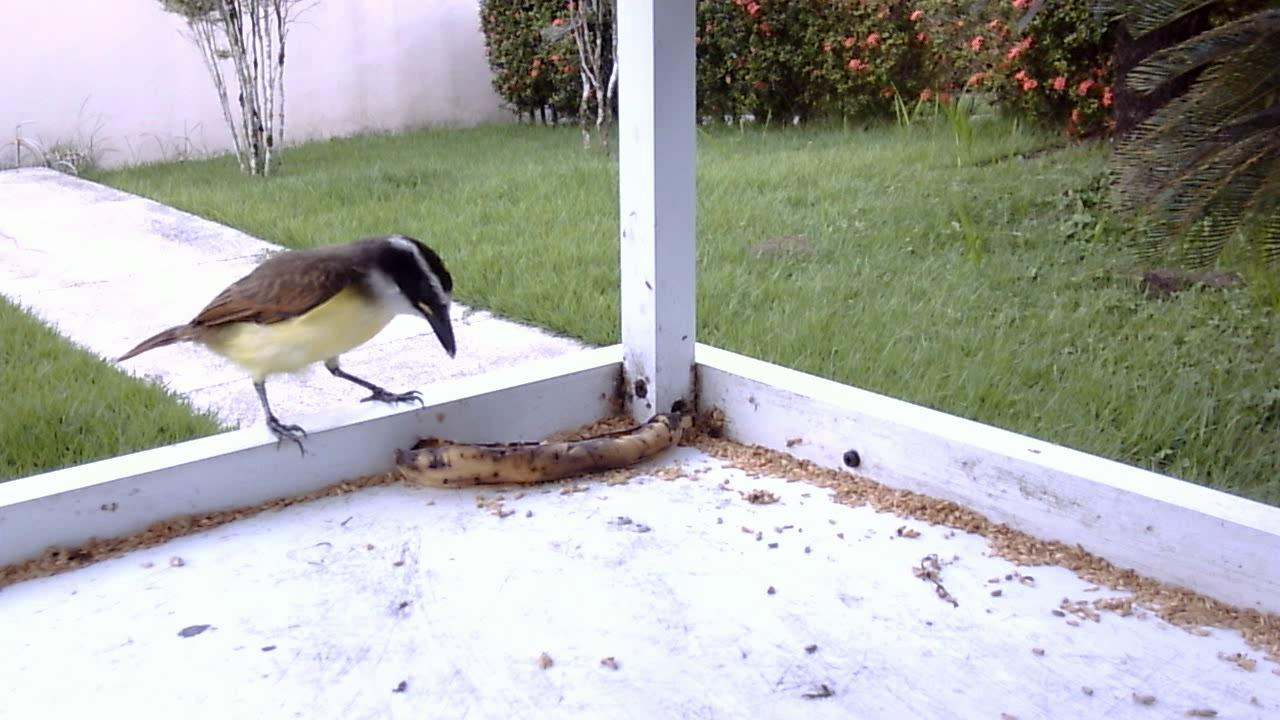bem_te_vi: (114, 224, 461, 468)
